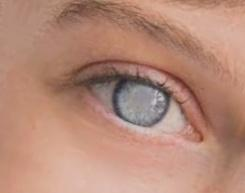eye: (114, 82, 168, 128)
